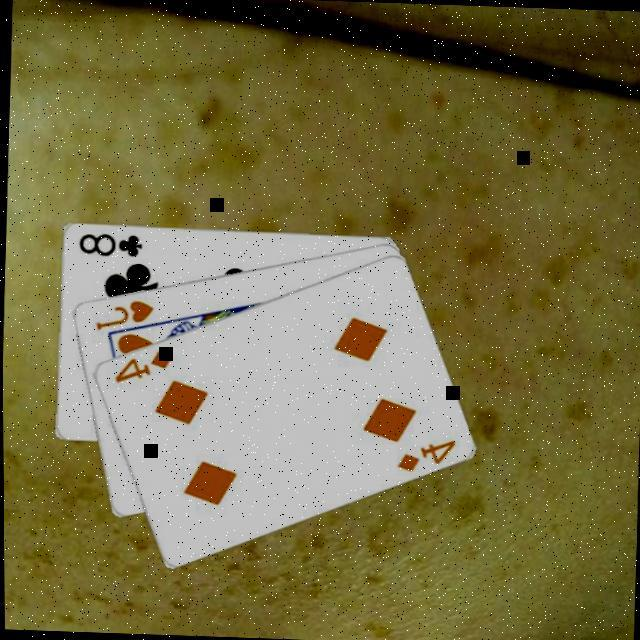4D: (108, 342, 172, 386), (390, 433, 455, 475)
8C: (72, 227, 142, 258)
JH: (88, 294, 154, 334)
